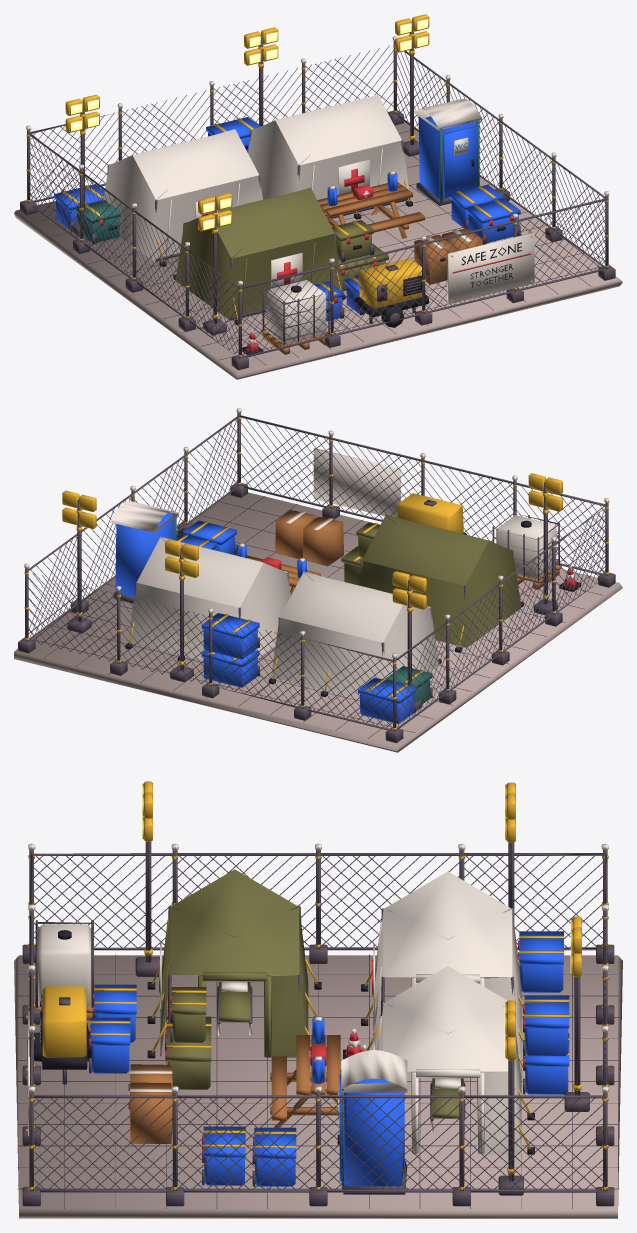
The picture shows the model from 3 angles, top to bottom: view 1: azimuth 30°, elevation 25°; view 2: azimuth 150°, elevation 25°; view 3: azimuth 270°, elevation 25°; orthographic projection. The views are drawn at different scales.
Parts seen in each view (by area): view 1: object 4, roof, door_toilet; view 2: object 4, roof; view 3: object 4, roof, interior.
Part boxes in pixels (bbox=[...]): object 4: bbox=[14, 14, 622, 379]; roof: bbox=[109, 94, 481, 258]; door_toilet: bbox=[443, 126, 476, 197]; object 4: bbox=[14, 408, 622, 752]; roof: bbox=[111, 501, 512, 642]; object 4: bbox=[14, 781, 622, 1218]; roof: bbox=[170, 869, 512, 1092]; interior: bbox=[217, 981, 465, 1132].
Bounding box in the file's own units: 12 × 4.16 × 12.
